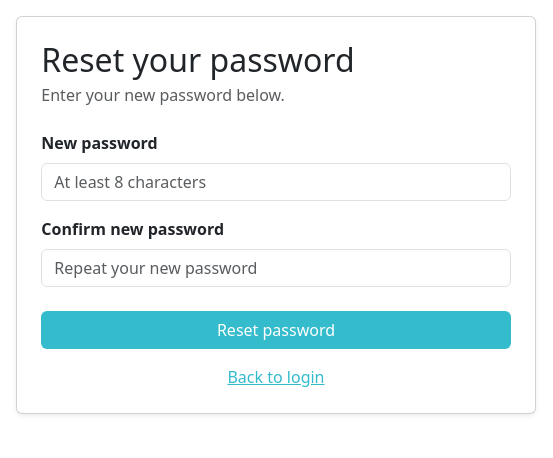
Test case: ResetPasswordPage › shows an error when the new password is shorter than 8 characters
In the password field labelled "New password": (276, 182) [41,163,511,201], type "short"
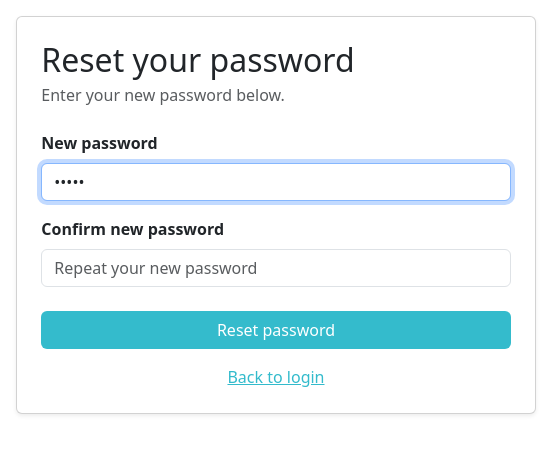
In the password field labelled "Confirm new password": (276, 268) [41,249,511,287], type "short"
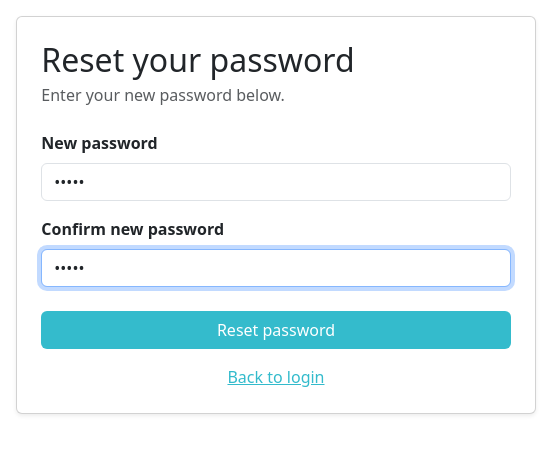
Click the button "Reset password": click(276, 330) [41,311,511,349]
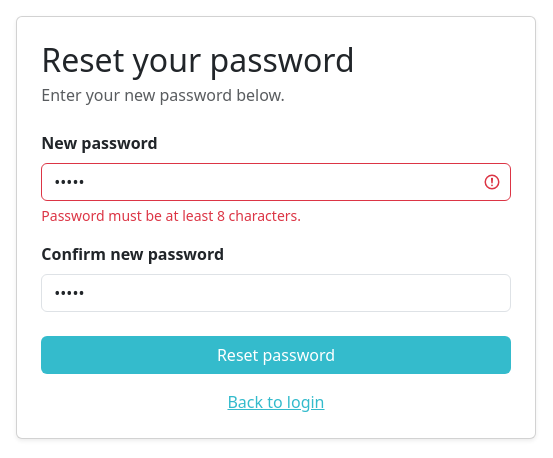
Check: the text "Password must be at least 8 characters." is shown, box [41,206,301,225]
